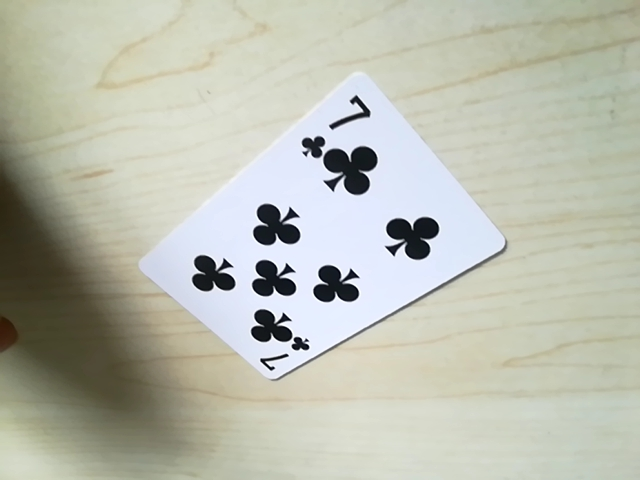mh 7: (304, 86, 374, 148), (250, 331, 309, 379)
